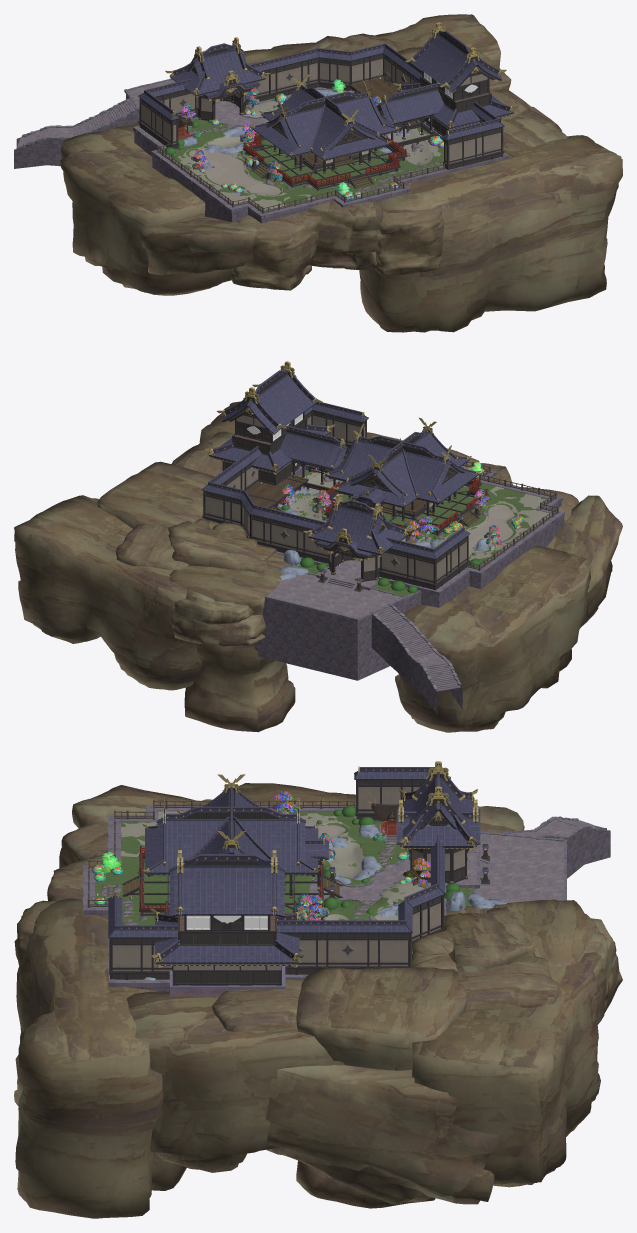
The picture shows the model from 3 angles, top to bottom: view 1: azimuth 30°, elevation 25°; view 2: azimuth 150°, elevation 25°; view 3: azimuth 270°, elevation 25°; orthographic projection. The views are drawn at different scales.
Visible parts, largest first — view 1: 岩石6, 岩石3, 岩石4, 岩石5, 草地, 岩石17, 岩石15, 主体建筑, 大门 台阶, 左侧 屋檐, 岩石1, 中间楼梯 (+35 smaller); view 2: 岩石3, 岩石1, 岩石2, 侧面墙体, 岩石9, 岩石4, 岩石0, 主体建筑, 岩石, 门口的石地板, 楼梯 外, 左侧 屋檐 (+30 smaller); view 3: 岩石6, 岩石1, 岩石8, 岩石7, 岩石9, 左侧 屋檐, 主体建筑, 门口的石地板, 草地, 岩石2, 岩石, 岩石10 (+33 smaller).
Part boxes in pixels (<box>): 岩石6: <box>359,135,622,332</box>; 岩石3: <box>60,123,232,295</box>; 岩石4: <box>139,216,257,275</box>; 岩石5: <box>231,211,321,290</box>; 草地: <box>173,100,443,210</box>; 岩石17: <box>307,200,383,269</box>; 岩石15: <box>374,209,444,275</box>; 主体建筑: <box>393,22,518,135</box>; 大门 台阶: <box>133,87,509,219</box>; 左侧 屋檐: <box>397,35,514,128</box>; 岩石1: <box>271,14,500,67</box>; 中间楼梯: <box>243,136,407,191</box>; 岩石3: <box>395,545,591,732</box>; 岩石1: <box>14,495,201,690</box>; 岩石2: <box>169,552,295,732</box>; 侧面墙体: <box>254,593,462,714</box>; 岩石9: <box>97,461,214,528</box>; 岩石4: <box>546,495,622,625</box>; 岩石0: <box>171,590,266,646</box>; 主体建筑: <box>204,361,334,485</box>; 岩石: <box>168,521,276,573</box>; 门口的石地板: <box>266,574,445,665</box>; 楼梯 外: <box>264,573,461,691</box>; 左侧 屋檐: <box>209,375,330,472</box>; 岩石6: <box>14,898,186,1218</box>; 岩石1: <box>412,952,606,1187</box>; 岩石8: <box>266,1065,499,1204</box>; 岩石7: <box>126,991,345,1172</box>; 岩石9: <box>296,967,467,1208</box>; 左侧 屋檐: <box>155,866,299,964</box>; 主体建筑: <box>150,850,303,985</box>; 门口的石地板: <box>474,819,578,902</box>; 草地: <box>95,811,427,925</box>; 岩石2: <box>446,899,596,967</box>; 岩石: <box>444,907,537,972</box>; 岩石10: <box>456,957,558,1011</box>.
Size of the model in its own units: 11165 by 5398 by 9498.
Materials: 291 (231 with a texture image).
